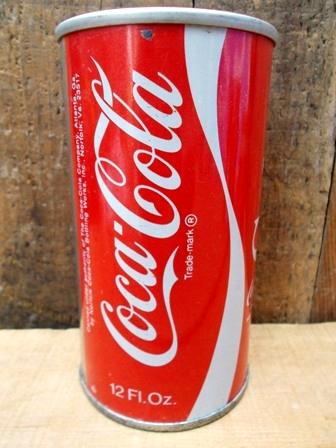metal: (55, 7, 279, 432)
